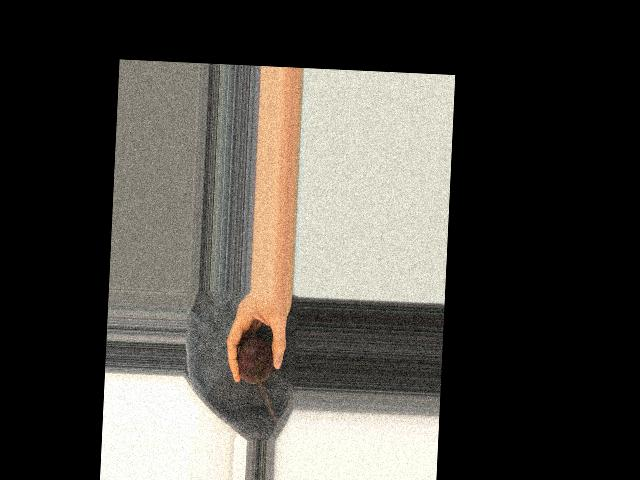beet: (236, 337, 274, 384)
